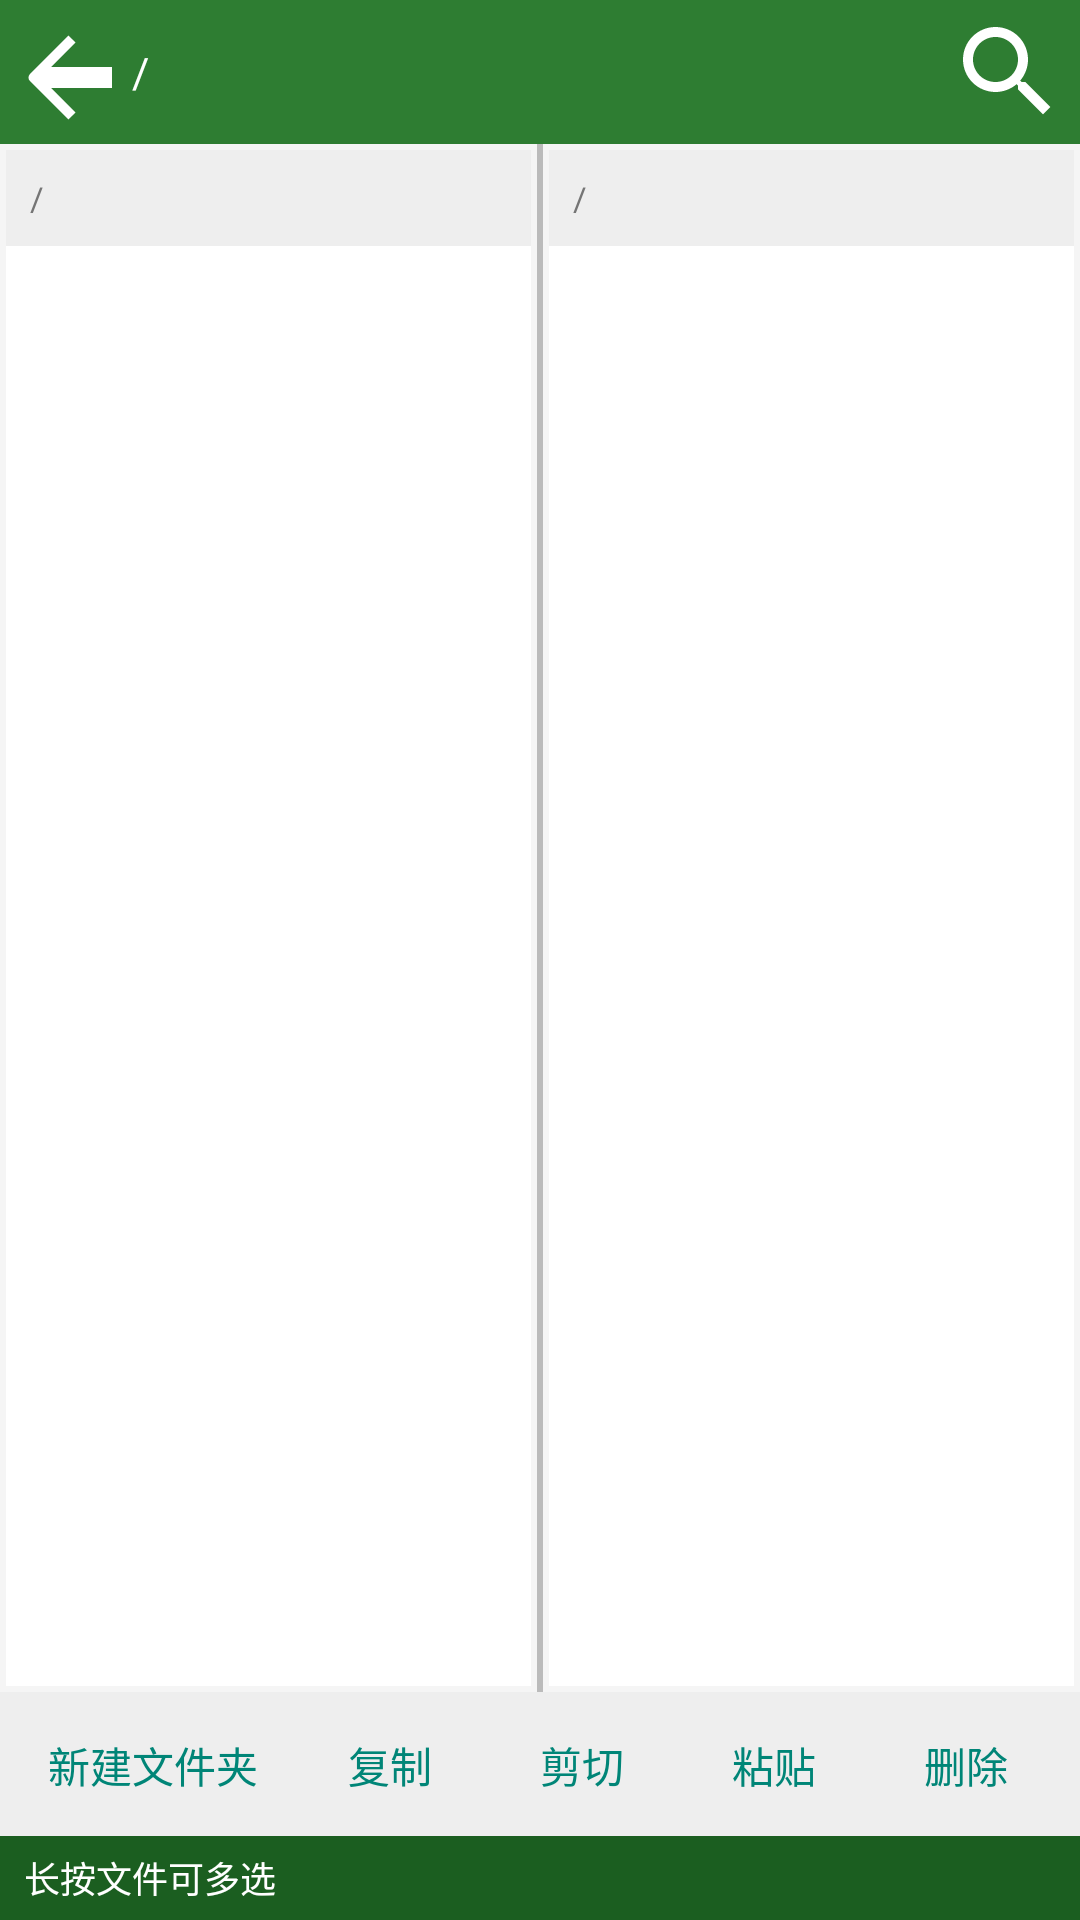

Where to tap for icons on this 1080*1920 app screen, as (x,y):
搜索: (1006,70)
返回上级: (70,77)
